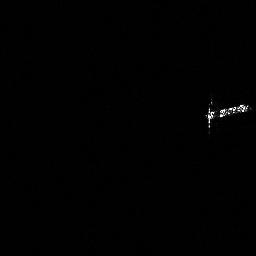ship: (202, 97, 252, 131)
